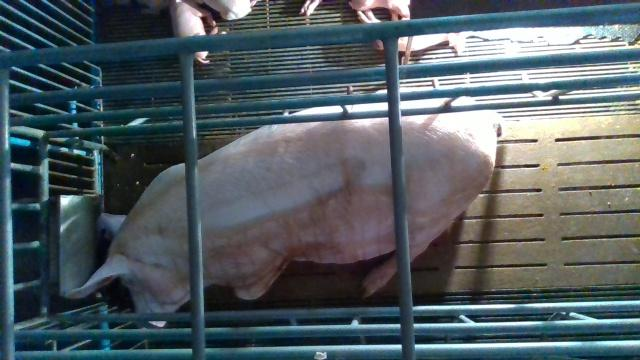piglet: (170, 0, 216, 64), (376, 32, 474, 57)
sow-sleep: (64, 86, 505, 328)
